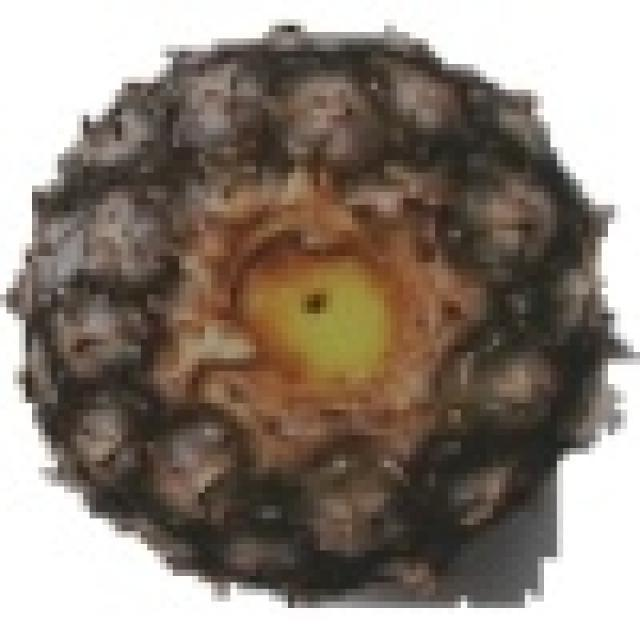pineapple: (6, 19, 595, 589)
